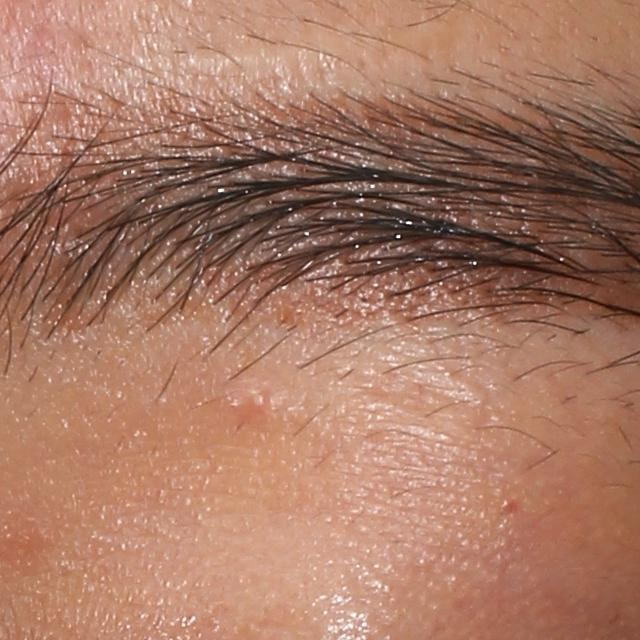papule: (245, 391, 271, 419)
